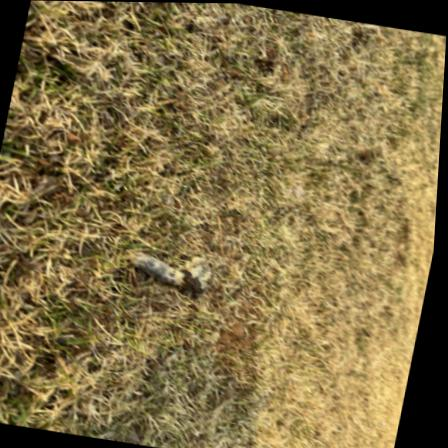dog-poop: (122, 229, 227, 298)
